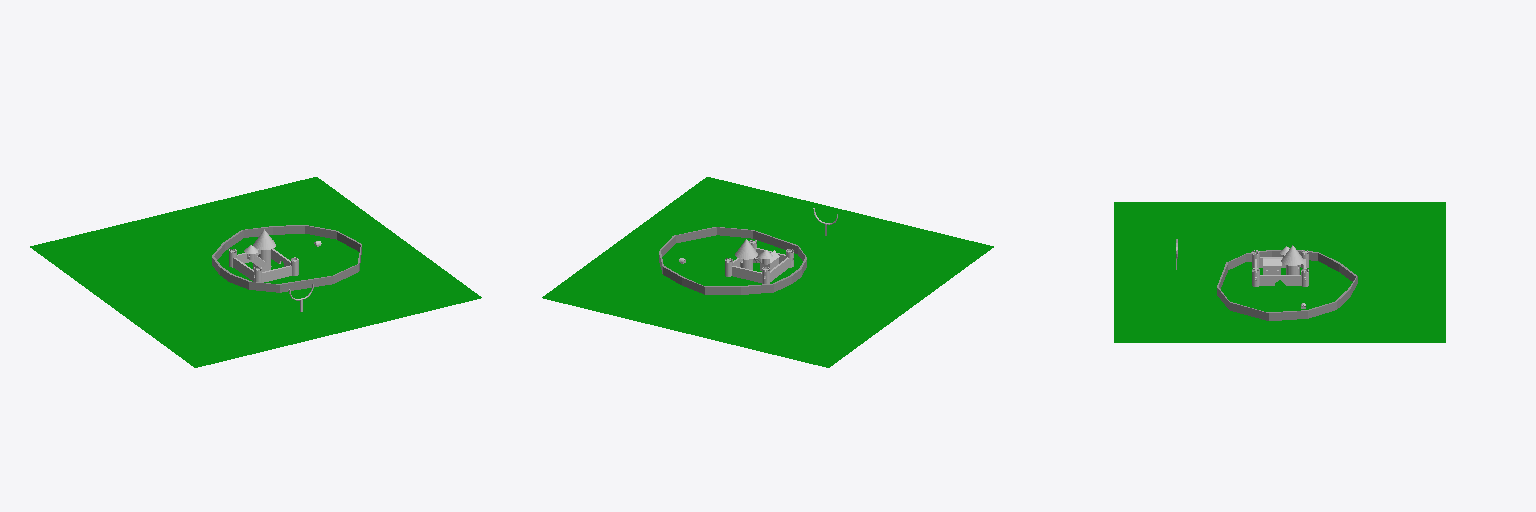
The model's file is playground.obj.
3 views of the same model, side by side, from view 1: azimuth 30°, elevation 25°; view 2: azimuth 150°, elevation 25°; view 3: azimuth 270°, elevation 25° (orthographic).
Parts seen in each view (by area): view 1: Plane, Wall_Cube, CastleWalls_Cylinder.003, WizardTower_Cylinder; view 2: Plane, Wall_Cube, CastleWalls_Cylinder.003, WizardTower_Cylinder; view 3: Plane, Wall_Cube, CastleWalls_Cylinder.003.
Part boxes in pixels (left/top/right/bottom): Plane: left=30, top=177, right=481, bottom=367; Wall_Cube: left=212, top=225, right=361, bottom=292; CastleWalls_Cylinder.003: left=229, top=240, right=298, bottom=282; WizardTower_Cylinder: left=244, top=229, right=275, bottom=264; Plane: left=542, top=177, right=993, bottom=367; Wall_Cube: left=659, top=227, right=806, bottom=294; CastleWalls_Cylinder.003: left=725, top=240, right=793, bottom=283; WizardTower_Cylinder: left=735, top=239, right=772, bottom=269; Plane: left=1114, top=202, right=1445, bottom=342; Wall_Cube: left=1217, top=250, right=1357, bottom=320; CastleWalls_Cylinder.003: left=1252, top=250, right=1308, bottom=286.
Bounding box in the file's own units: 84.3 × 10.28 × 84.3.